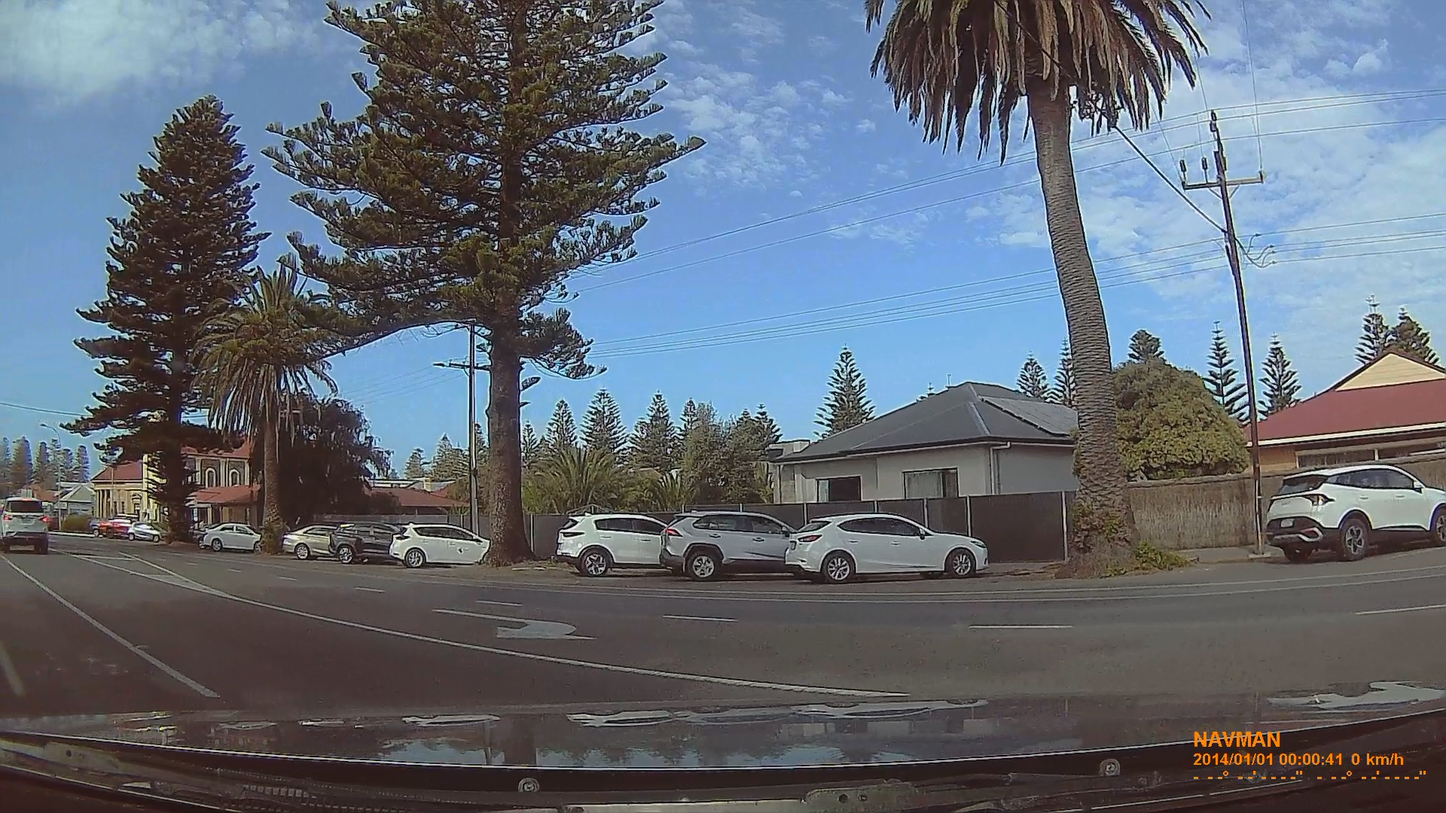fences: (767, 492, 1073, 562), (1129, 469, 1254, 550)
